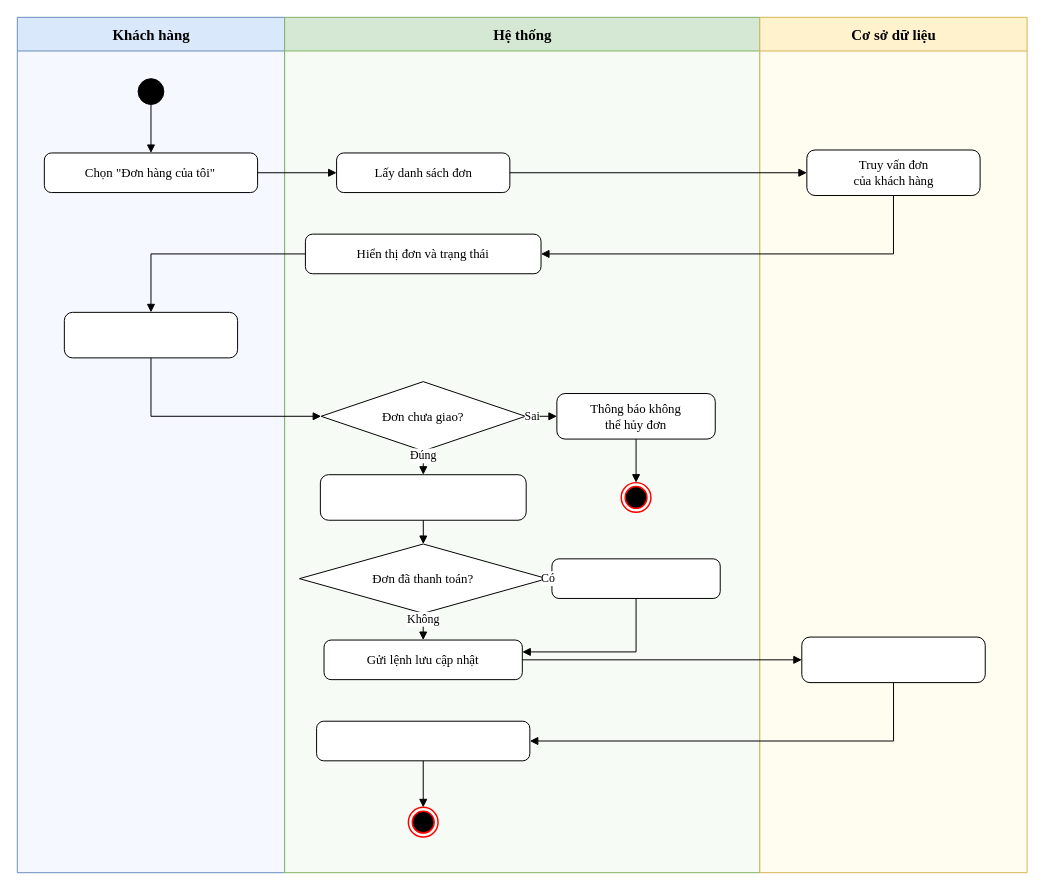
Some shapes in this 1044 by 890 pixel diagram are drawn without their labels. Each missing label, with the centre of its shape:
Chuyển "Chờ hoàn tiền": pixel 635 578
Chọn "Hủy đơn", nhập lý do: pixel 150 334
Hiển thị hủy thành công: pixel 423 740
Hủy đơn, hoàn tồn kho, hoàn điểm tích lũy: pixel 422 497
Lưu trạng thái đơn, tồn kho, điểm: pixel 893 659
